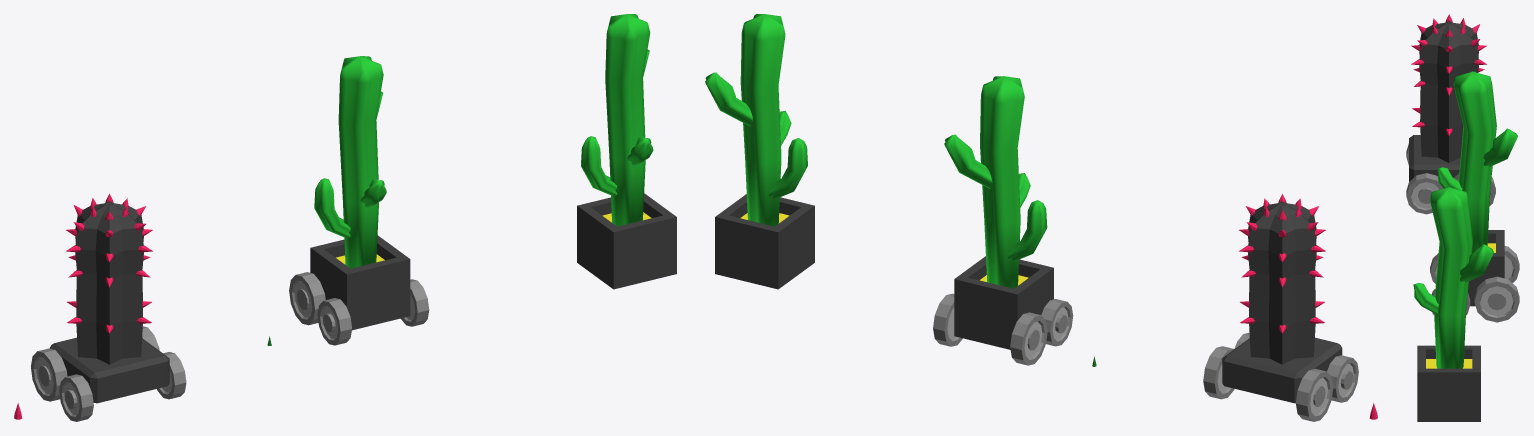
File: cactos.fbx
The picture shows the model from 3 angles, left to right: view 1: azimuth 30°, elevation 25°; view 2: azimuth 150°, elevation 25°; view 3: azimuth 270°, elevation 25°; orthographic projection. The views are drawn at different scales.
Visible parts, largest first — view 1: CactoMuitoPerigoso, Cacto, CactoDecoracao; view 2: Cacto, CactoMuitoPerigoso, CactoDecoracao; view 3: CactoDecoracao, Cacto, CactoMuitoPerigoso.
Boxes of the visible parts, x1,y1,x2,y2 form: CactoMuitoPerigoso: [31, 193, 186, 421]; Cacto: [289, 56, 429, 345]; CactoDecoracao: [577, 14, 676, 289]; Cacto: [933, 76, 1073, 365]; CactoMuitoPerigoso: [1203, 194, 1358, 421]; CactoDecoracao: [705, 14, 814, 289]; CactoDecoracao: [1413, 187, 1493, 421]; Cacto: [1430, 71, 1519, 322]; CactoMuitoPerigoso: [1406, 14, 1495, 214].
Size of the model in its own units: 723 by 283 by 125.
